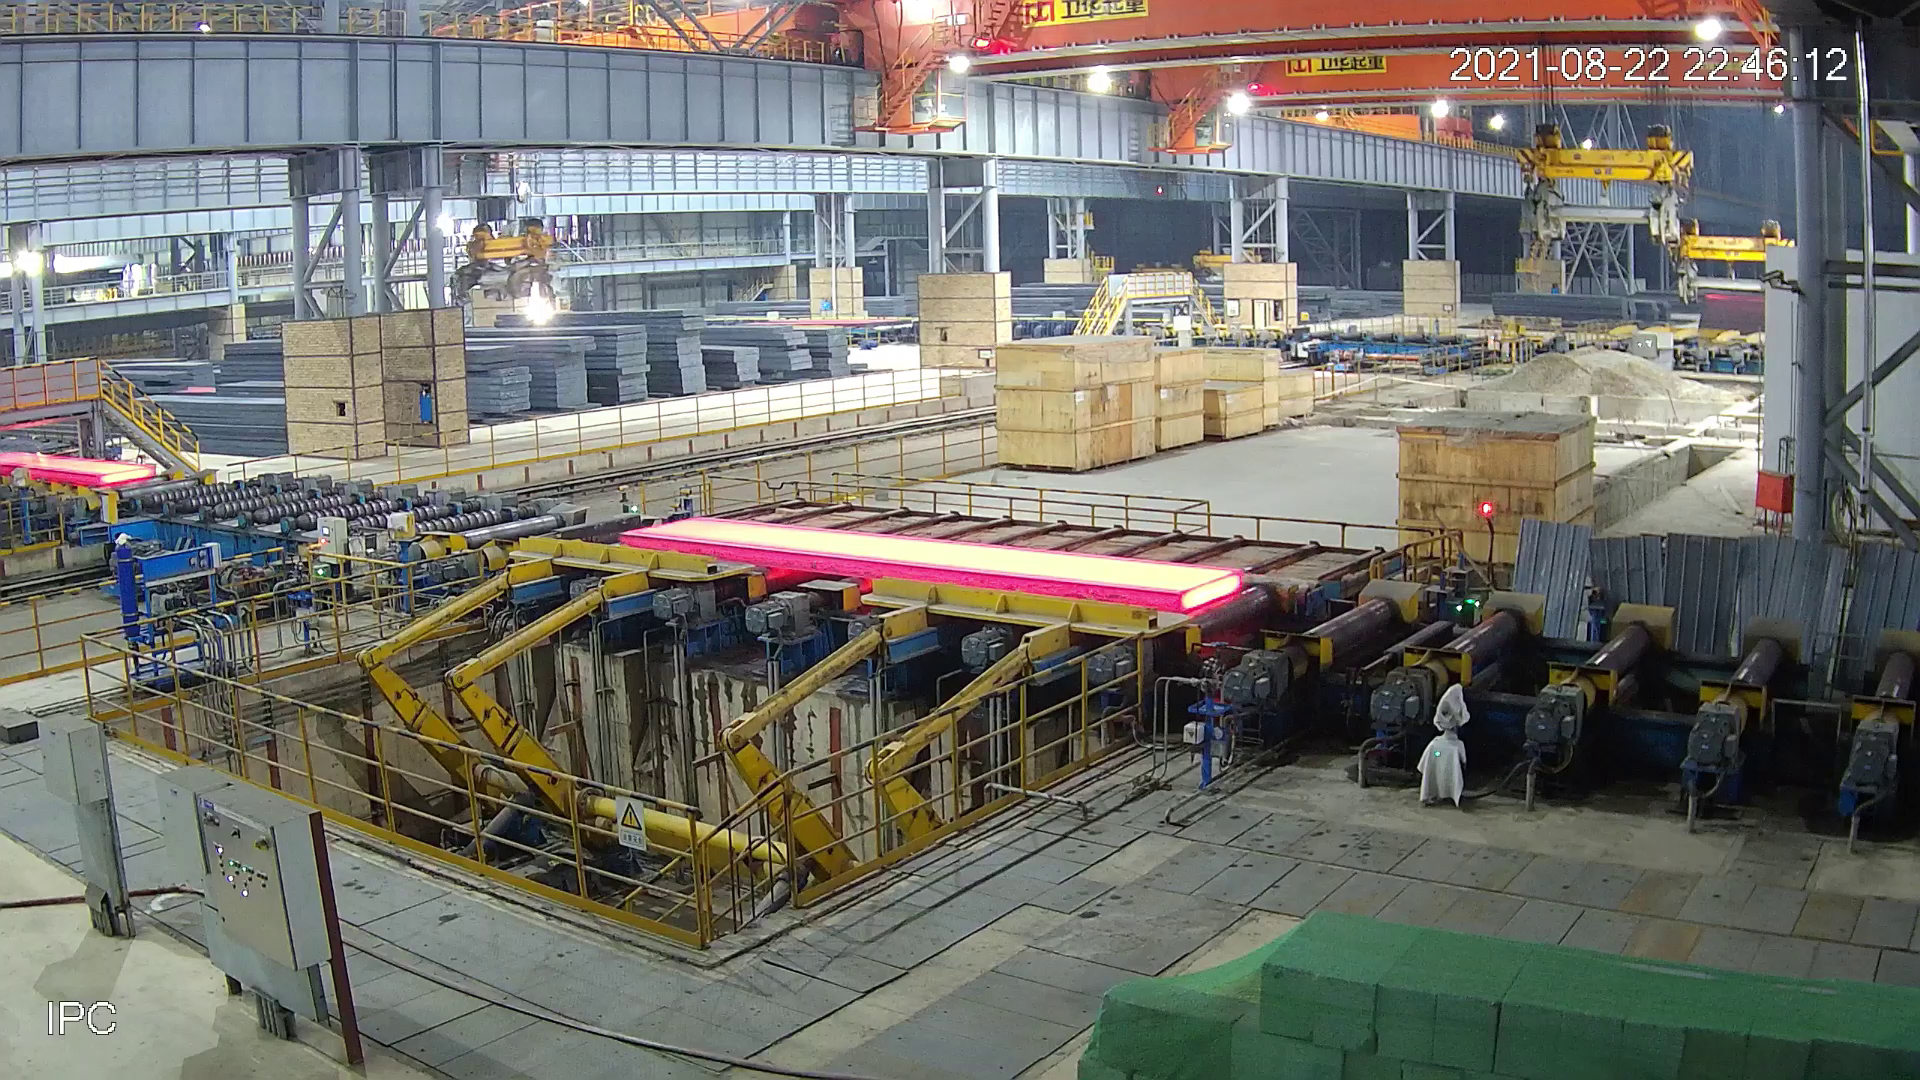slab: (617, 518, 1241, 609), (1, 450, 158, 487)
